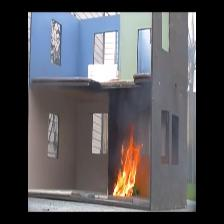fire: (113, 143, 138, 196)
smoke: (121, 89, 143, 121)
